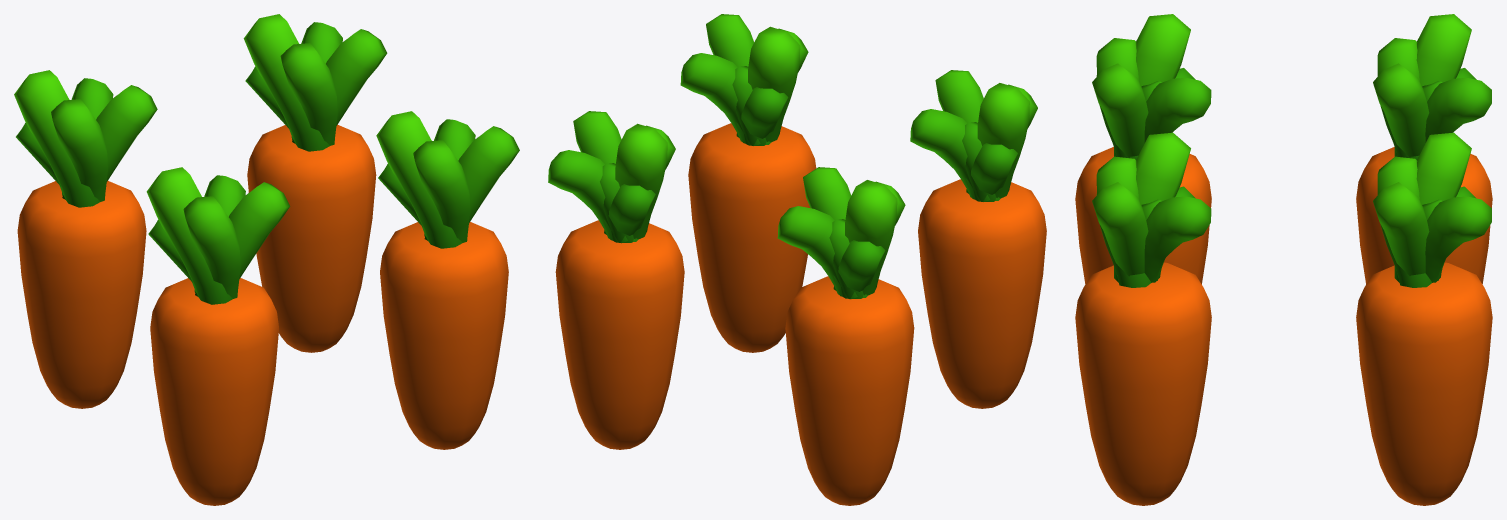
File: Farm_Crop_Carrot_Step_03.fbx
3 renders of one model, left to right at view 1: azimuth 30°, elevation 25°; view 2: azimuth 150°, elevation 25°; view 3: azimuth 270°, elevation 25°, orthographic. The views are drawn at different scales.
Parts seen in each view (by area): view 1: Farm_Crop_Carrot_Step_03; view 2: Farm_Crop_Carrot_Step_03; view 3: Farm_Crop_Carrot_Step_03.
Boxes of the visible parts, left/top/right/bottom form: Farm_Crop_Carrot_Step_03: left=14, top=14, right=519, bottom=505; Farm_Crop_Carrot_Step_03: left=548, top=14, right=1046, bottom=505; Farm_Crop_Carrot_Step_03: left=1075, top=14, right=1492, bottom=505.
Bounding box in the file's own units: 150 × 137 × 149.
